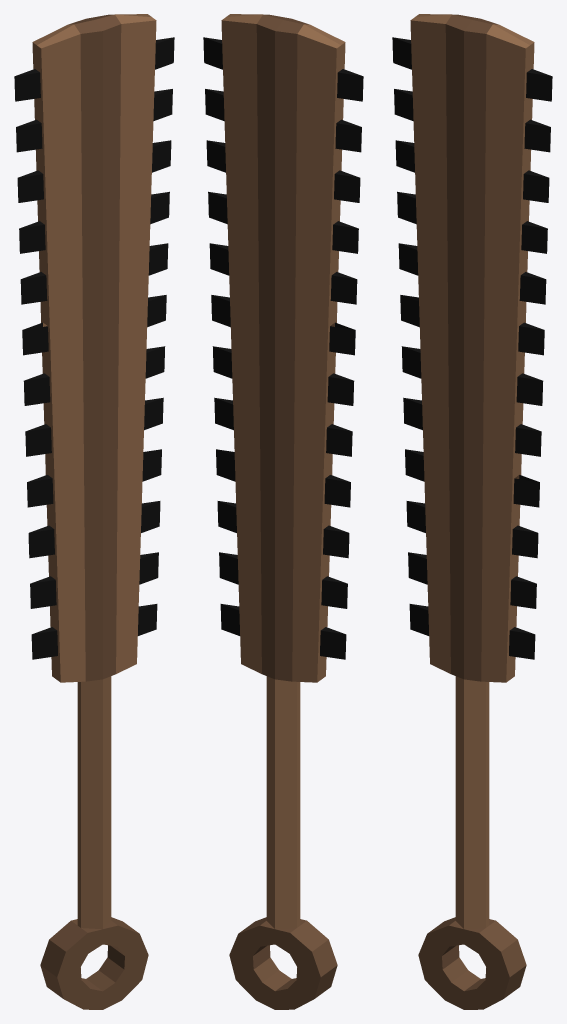
The model's file is macuahuitl.fbx.
3 views of the same model, side by side, from view 1: azimuth 30°, elevation 25°; view 2: azimuth 150°, elevation 25°; view 3: azimuth 330°, elevation 25° (orthographic).
Parts seen in each view (by area): view 1: Cube; view 2: Cube; view 3: Cube.
Part boxes in pixels (bbox=[...]): Cube: bbox=[14, 14, 174, 1009]; Cube: bbox=[203, 14, 363, 1009]; Cube: bbox=[392, 14, 552, 1009].
Size of the model in its own units: 3.06 by 98.78 by 16.82.
